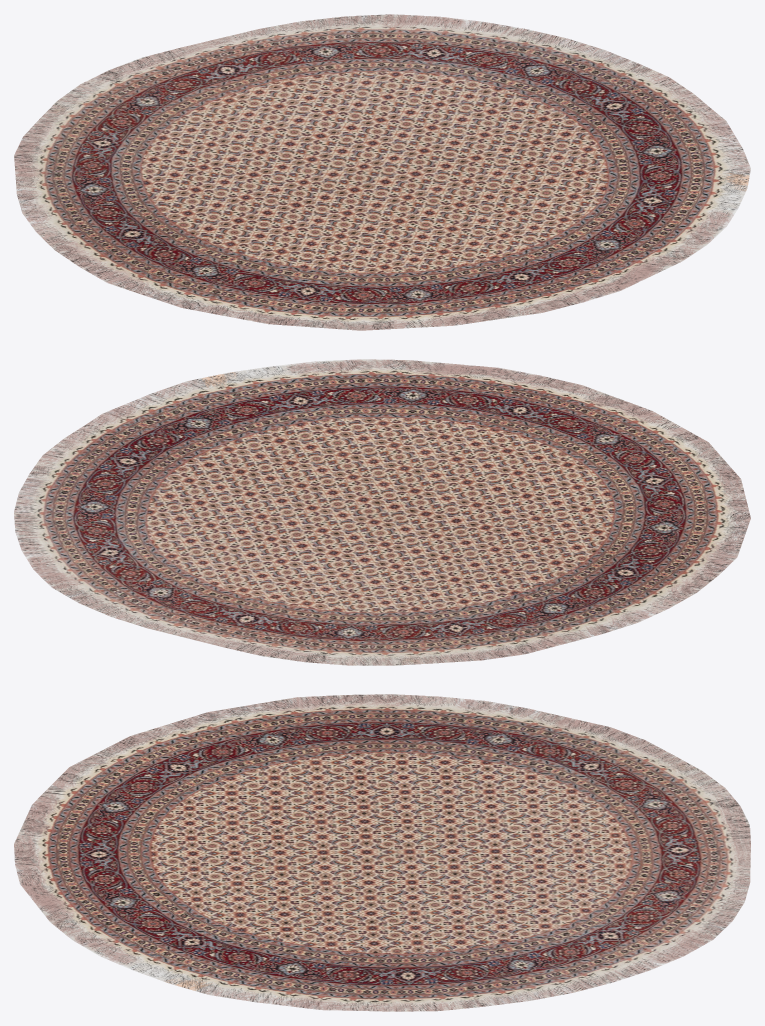
The model's file is carpetround.glb.
3 views of the same model, one above another, from view 1: azimuth 30°, elevation 25°; view 2: azimuth 150°, elevation 25°; view 3: azimuth 270°, elevation 25° (orthographic). The views are drawn at different scales.
Visible parts, largest first — view 1: Object_2; view 2: Object_2; view 3: Object_2.
Part boxes in pixels (box(x1,y1,x2,y2)): Object_2: box(14, 14, 750, 330); Object_2: box(14, 359, 750, 665); Object_2: box(14, 694, 750, 1011).
Size of the model in its own units: 177 by 3.86e-14 by 174.
1 material, 1 textured.
